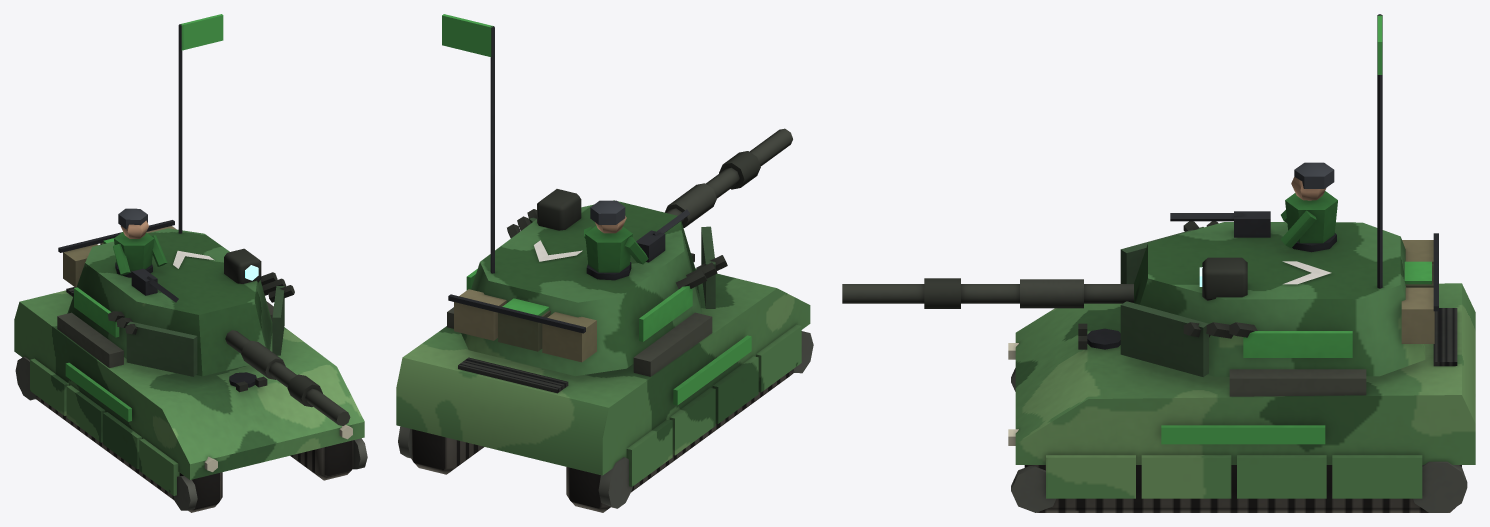
The model's file is assault_dl7_green.glb.
3 renders of one model, left to right at view 1: azimuth 30°, elevation 25°; view 2: azimuth 150°, elevation 25°; view 3: azimuth 270°, elevation 25°, orthographic. The views are drawn at different scales.
Parts seen in each view (by area): view 1: assault_dl7_green; view 2: assault_dl7_green; view 3: assault_dl7_green.
Boxes of the visible parts, box(x1,y1,x2,y2) form: assault_dl7_green: box(14, 14, 367, 512); assault_dl7_green: box(396, 14, 813, 512); assault_dl7_green: box(842, 14, 1475, 512).
Bounding box in the file's own units: 0.31 × 0.575 × 0.695.
2 materials, 1 textured.
